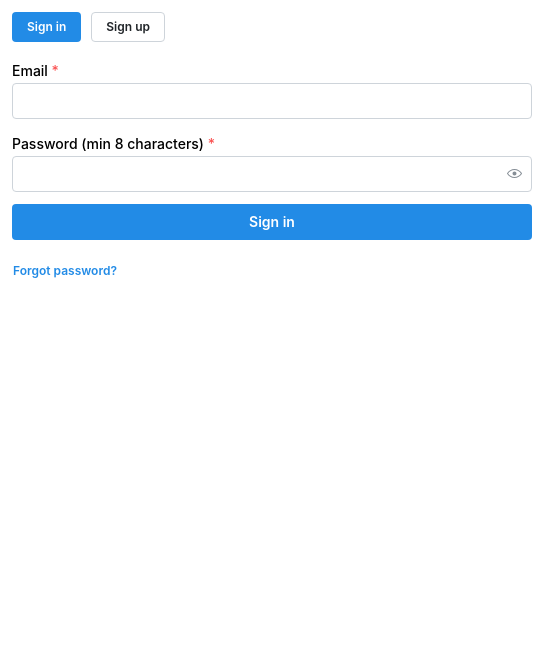
Test: AuthPanel flows › requests a reset token and confirms the new password
Type "a@b.co" into the field labelled "Email *" at (272, 101), box [12,83,532,119]
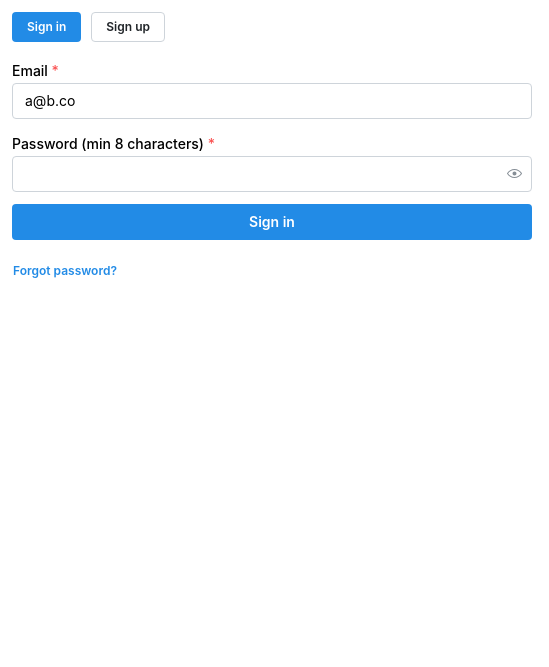
Click the button "Forgot password?" at (65, 270), box [12,256,532,286]
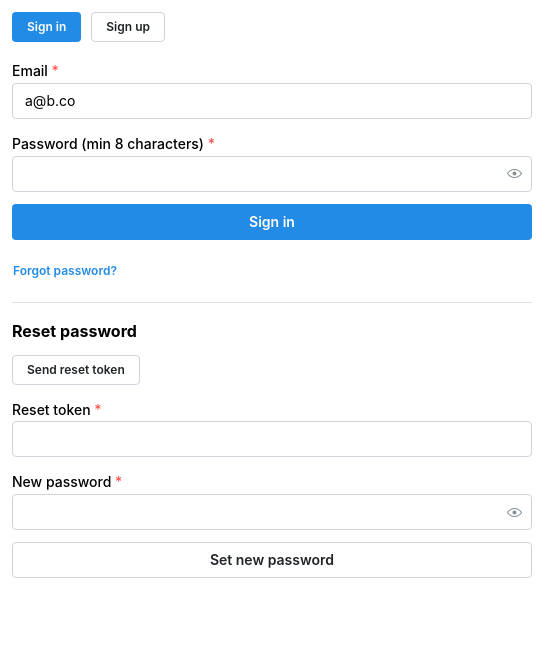
Click the button "Send reset token" at (76, 370), box [12,355,140,385]
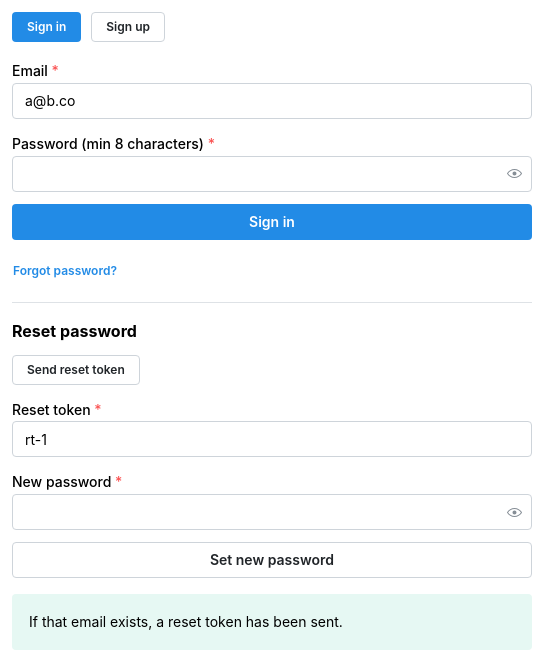
Expected: the text "If that email exists, a reset token has been sent." is shown, [29,613,343,630]
Expected: the field labelled "Reset token *" holds "rt-1", [12,421,532,457]
Type "newpassword1" into the password field labelled "New password *" at (272, 512), box [13,495,531,529]
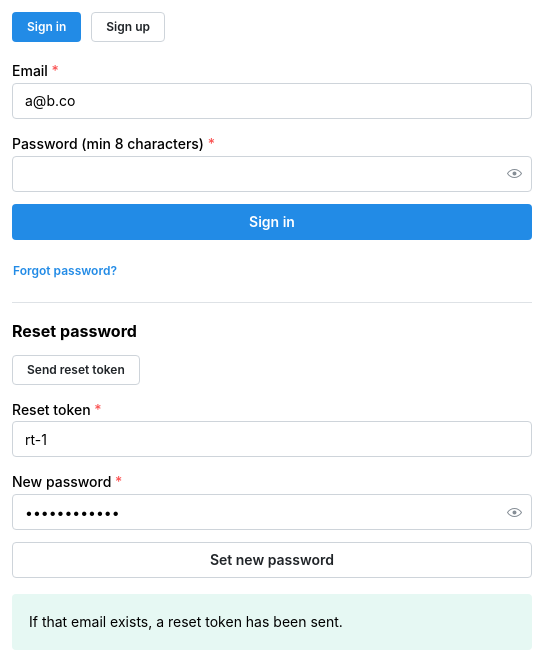
Click the button "Set new password" at (272, 560), box [12,542,532,578]
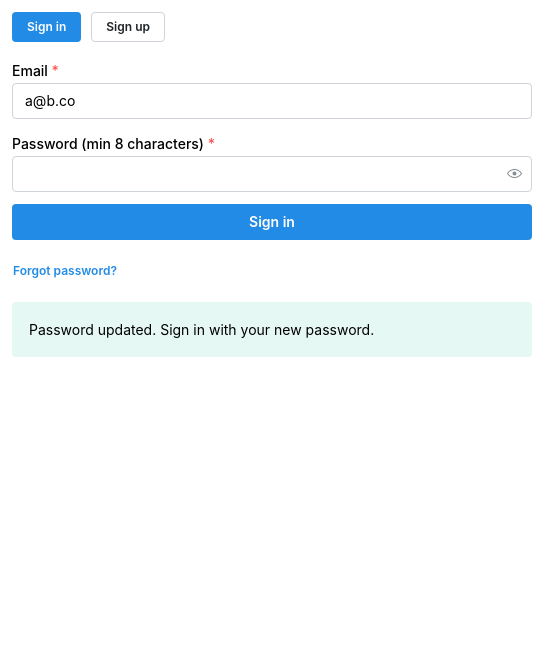
Expected: the text "Password updated. Sign in with your new password." is shown, [29,321,374,338]
